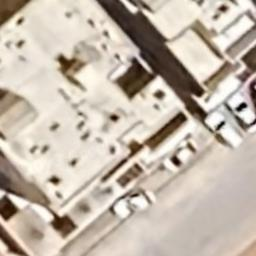SUV: (202, 110, 244, 150)
sedan: (110, 188, 158, 221), (163, 136, 200, 178), (222, 91, 256, 136)
